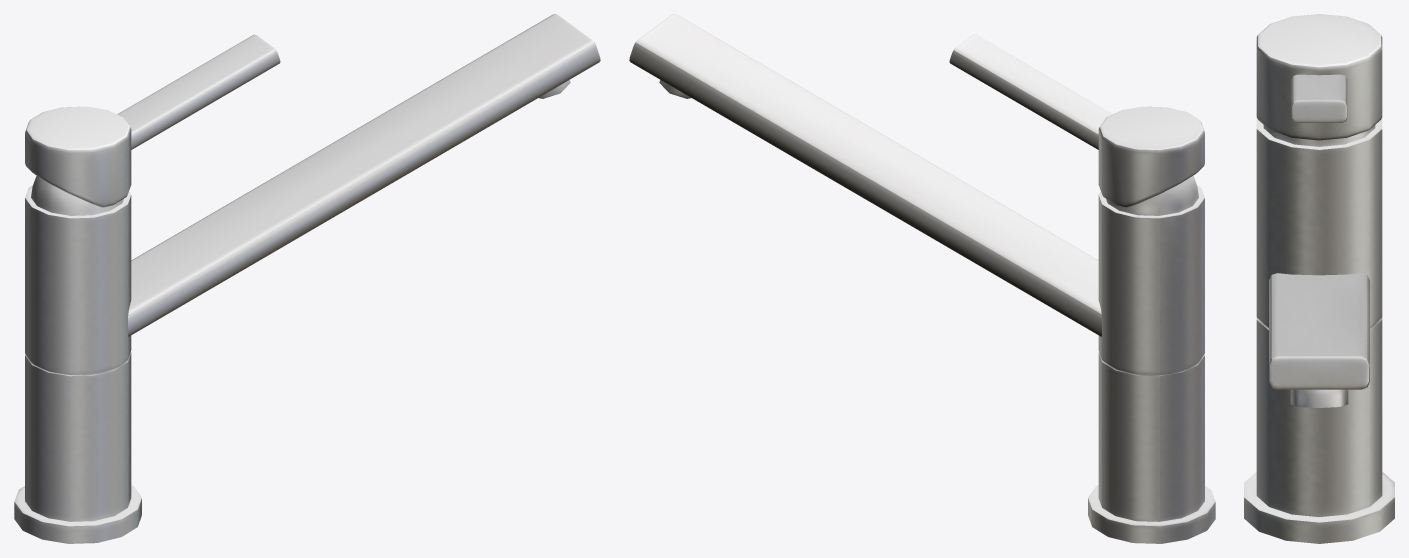
The model's file is modern_low_profile.glb.
3 views of the same model, side by side, from view 1: azimuth 30°, elevation 25°; view 2: azimuth 150°, elevation 25°; view 3: azimuth 270°, elevation 25° (orthographic). The views are drawn at different scales.
Visible parts, largest first — view 1: Dorf_Villa_Sink; view 2: Dorf_Villa_Sink; view 3: Dorf_Villa_Sink.
Boxes of the visible parts, x1,y1,x2,y2 form: Dorf_Villa_Sink: [14, 14, 600, 543]; Dorf_Villa_Sink: [629, 14, 1215, 543]; Dorf_Villa_Sink: [1244, 14, 1394, 543].
Size of the model in its own units: 0.2723 by 0.2004 by 0.0526.
1 material, 1 textured.
